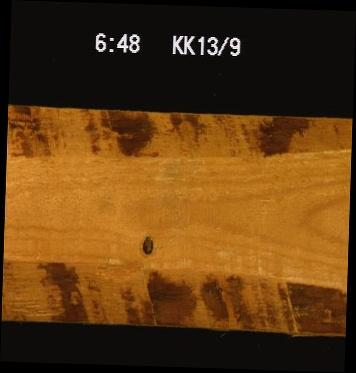dry_knot: (139, 231, 154, 256)
wave: (1, 264, 346, 331), (7, 111, 351, 158)
